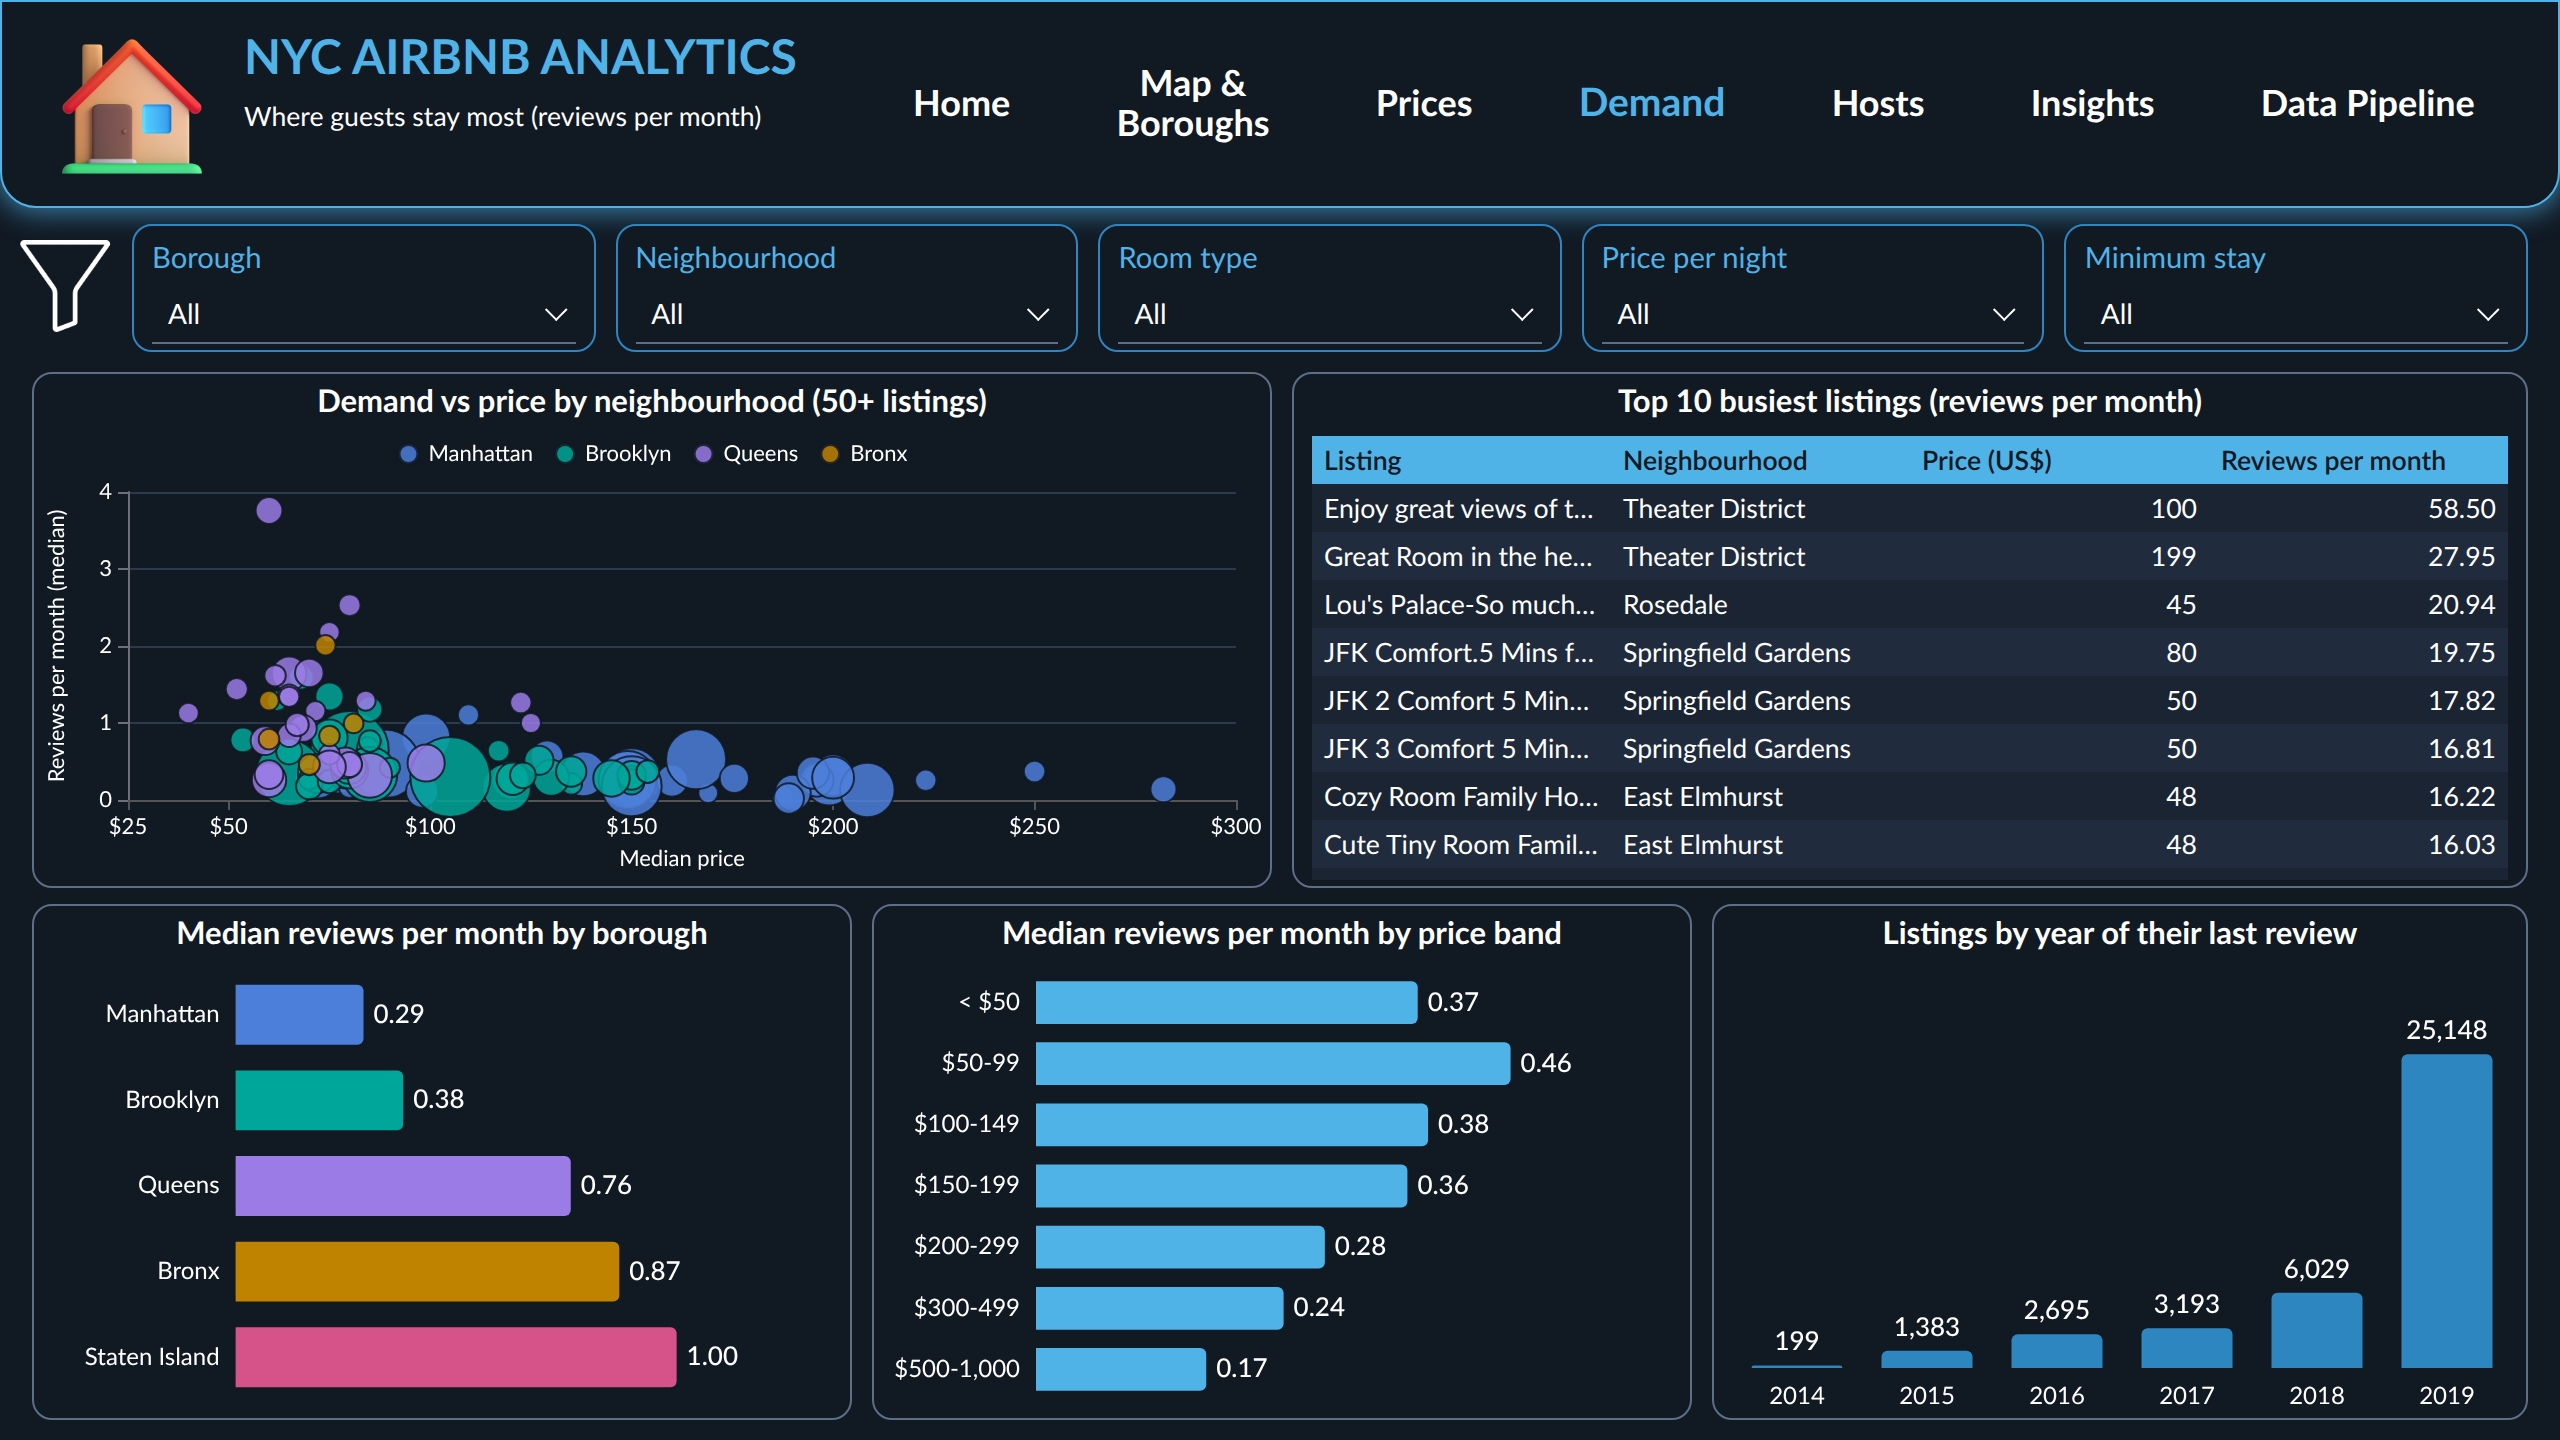

What the dashboard file says about the page in this screenshot:
{"tool":"powerbi","page":{"name":"Demand","canvas":[1280,720],"ordinal":3},"visuals":[{"type":"shape","box":[0,0,1280,104],"z":1000},{"type":"image","box":[18,12,96,80],"z":2000},{"type":"textbox","box":[122,14,300,76],"z":3000},{"type":"pageNavigator","box":[430,26,834,52],"z":4000},{"type":"image","box":[10,120,46,46],"z":5000},{"type":"shape","box":[66,112,231.6,64],"z":6000},{"type":"slicer","fields":{"Values":["Listings.Borough"]},"box":[70,114,223.6,60],"z":7000},{"type":"shape","box":[307.6,112,231.6,64],"z":8000},{"type":"slicer","fields":{"Values":["Listings.Neighbourhood"]},"box":[311.6,114,223.6,60],"z":9000},{"type":"shape","box":[549.2,112,231.6,64],"z":10000},{"type":"slicer","fields":{"Values":["Listings.Room Type"]},"box":[553.2,114,223.6,60],"z":11000},{"type":"shape","box":[790.8,112,231.6,64],"z":12000},{"type":"slicer","fields":{"Values":["Listings.Price Band"]},"box":[794.8,114,223.6,60],"z":13000},{"type":"shape","box":[1032.4,112,231.6,64],"z":14000},{"type":"slicer","fields":{"Values":["Listings.Minimum Stay"]},"box":[1036.4,114,223.6,60],"z":15000},{"type":"shape","box":[16,186,620,258],"z":16000},{"type":"scatterChart","title":"Demand vs price by neighbourhood (50+ listings)","fields":{"Category":["Listings.Neighbourhood"],"Series":["Listings.Borough"],"Size":["Listings.Total Listings"],"X":["Listings.Median Price"],"Y":["Listings.Median Reviews per Month (50+ listings)"]},"box":[20,190,612,250],"z":17000},{"type":"shape","box":[646,186,618,258],"z":18000},{"type":"tableEx","title":"Top 10 busiest listings (reviews per month)","fields":{"Values":["Listings.Listing Name","Listings.Neighbourhood","Listings.Price","Listings.Reviews per Month"]},"box":[650,190,610,250],"z":19000},{"type":"shape","box":[16,452,410,258],"z":20000},{"type":"barChart","title":"Median reviews per month by borough","fields":{"Category":["Listings.Borough"],"Y":["Listings.Median Reviews per Month"]},"box":[20,456,402,250],"z":21000},{"type":"shape","box":[436,452,410,258],"z":22000},{"type":"barChart","title":"Median reviews per month by price band","fields":{"Category":["Listings.Price Band"],"Y":["Listings.Median Reviews per Month"]},"box":[440,456,402,250],"z":23000},{"type":"shape","box":[856,452,408,258],"z":24000},{"type":"columnChart","title":"Listings by year of their last review","fields":{"Category":["Listings.Last Review Year"],"Y":["Listings.Total Listings"]},"box":[860,456,400,250],"z":25000}]}

Visuals, with their boxes in screenshot pixels (x1, y1, x2, y2), scaled from the page's 1280x720 canvas onto the 2560x1440 screenshot:
shape: {"left": 0, "top": 0, "right": 2559, "bottom": 208}
image: {"left": 36, "top": 24, "right": 228, "bottom": 184}
textbox: {"left": 244, "top": 28, "right": 844, "bottom": 180}
pageNavigator: {"left": 860, "top": 52, "right": 2528, "bottom": 156}
image: {"left": 20, "top": 240, "right": 112, "bottom": 332}
shape: {"left": 132, "top": 224, "right": 595, "bottom": 352}
slicer - Listings.Borough: {"left": 140, "top": 228, "right": 587, "bottom": 348}
shape: {"left": 615, "top": 224, "right": 1078, "bottom": 352}
slicer - Listings.Neighbourhood: {"left": 623, "top": 228, "right": 1070, "bottom": 348}
shape: {"left": 1098, "top": 224, "right": 1562, "bottom": 352}
slicer - Listings.Room Type: {"left": 1106, "top": 228, "right": 1554, "bottom": 348}
shape: {"left": 1582, "top": 224, "right": 2045, "bottom": 352}
slicer - Listings.Price Band: {"left": 1590, "top": 228, "right": 2037, "bottom": 348}
shape: {"left": 2065, "top": 224, "right": 2528, "bottom": 352}
slicer - Listings.Minimum Stay: {"left": 2073, "top": 228, "right": 2520, "bottom": 348}
shape: {"left": 32, "top": 372, "right": 1272, "bottom": 888}
"Demand vs price by neighbourhood (50+ listings)" scatterChart: {"left": 40, "top": 380, "right": 1264, "bottom": 880}
shape: {"left": 1292, "top": 372, "right": 2528, "bottom": 888}
"Top 10 busiest listings (reviews per month)" tableEx: {"left": 1300, "top": 380, "right": 2520, "bottom": 880}
shape: {"left": 32, "top": 904, "right": 852, "bottom": 1420}
"Median reviews per month by borough" barChart: {"left": 40, "top": 912, "right": 844, "bottom": 1412}
shape: {"left": 872, "top": 904, "right": 1692, "bottom": 1420}
"Median reviews per month by price band" barChart: {"left": 880, "top": 912, "right": 1684, "bottom": 1412}
shape: {"left": 1712, "top": 904, "right": 2528, "bottom": 1420}
"Listings by year of their last review" columnChart: {"left": 1720, "top": 912, "right": 2520, "bottom": 1412}
